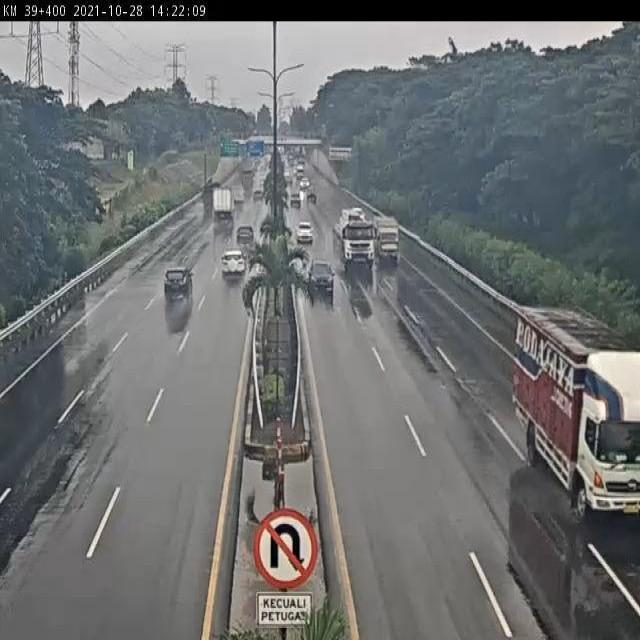big truck: (333, 208, 376, 268)
car: (158, 263, 195, 301), (306, 258, 335, 302), (217, 253, 249, 280), (294, 218, 317, 250), (237, 224, 254, 241)
small truck: (510, 304, 640, 525), (374, 212, 404, 265)
